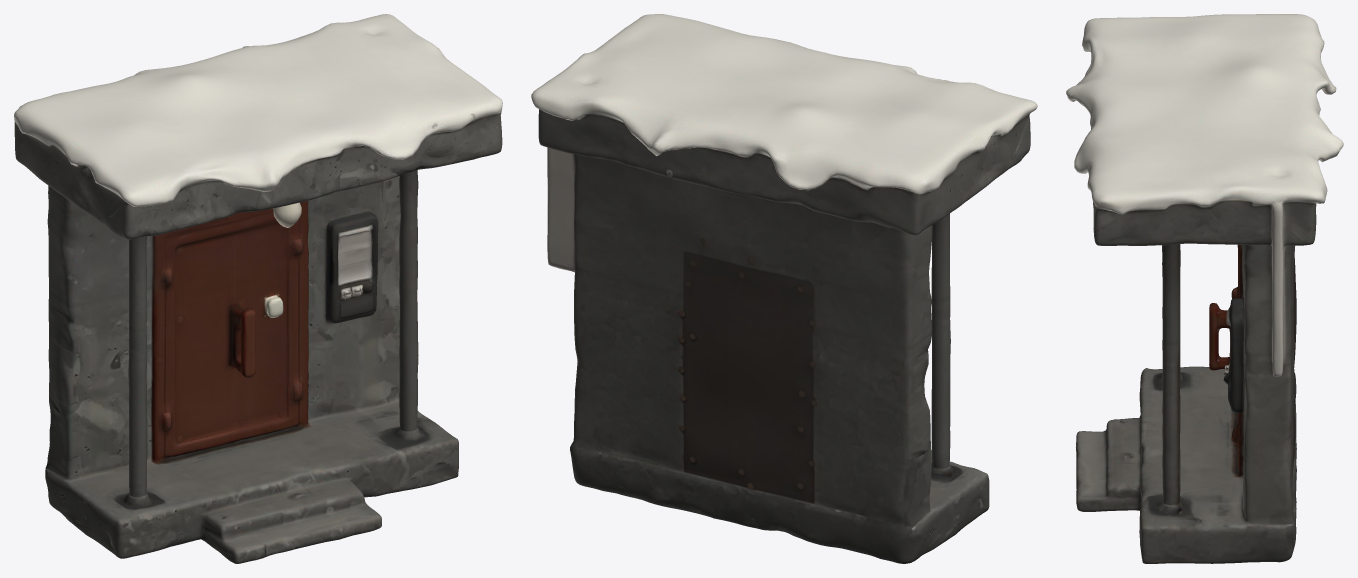
File: g67_podezd_entrance.glb
3 views of the same model, side by side, from view 1: azimuth 30°, elevation 25°; view 2: azimuth 150°, elevation 25°; view 3: azimuth 270°, elevation 25° (orthographic). The views are drawn at different scales.
Parts seen in each view (by area): view 1: tripo_node_b1ea67cd; view 2: tripo_node_b1ea67cd; view 3: tripo_node_b1ea67cd.
Boxes of the visible parts, box(x1,y1,x2,y2) form: tripo_node_b1ea67cd: box(14, 14, 502, 563); tripo_node_b1ea67cd: box(531, 14, 1037, 563); tripo_node_b1ea67cd: box(1066, 14, 1343, 563).
Size of the model in its own units: 97.42 by 97.85 by 62.11.
1 material, 1 textured.
